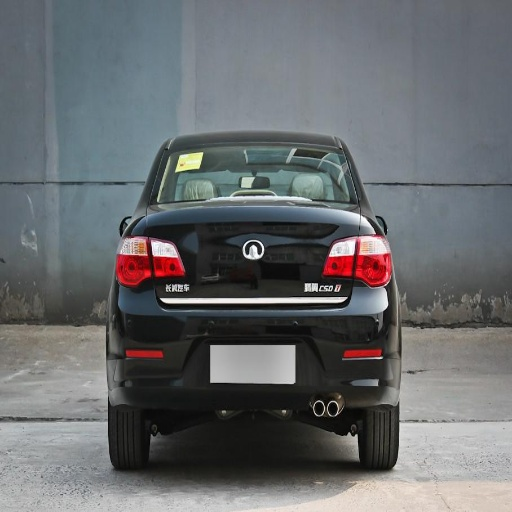back_bumper: (117, 281, 400, 412)
trunk: (139, 204, 359, 336)
